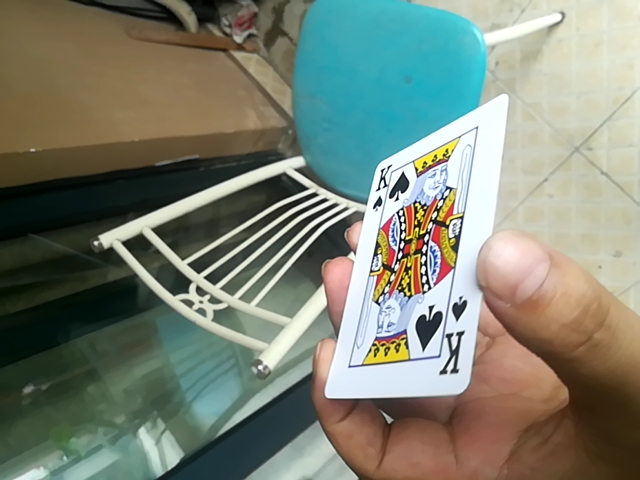ht k: (323, 93, 504, 406)
